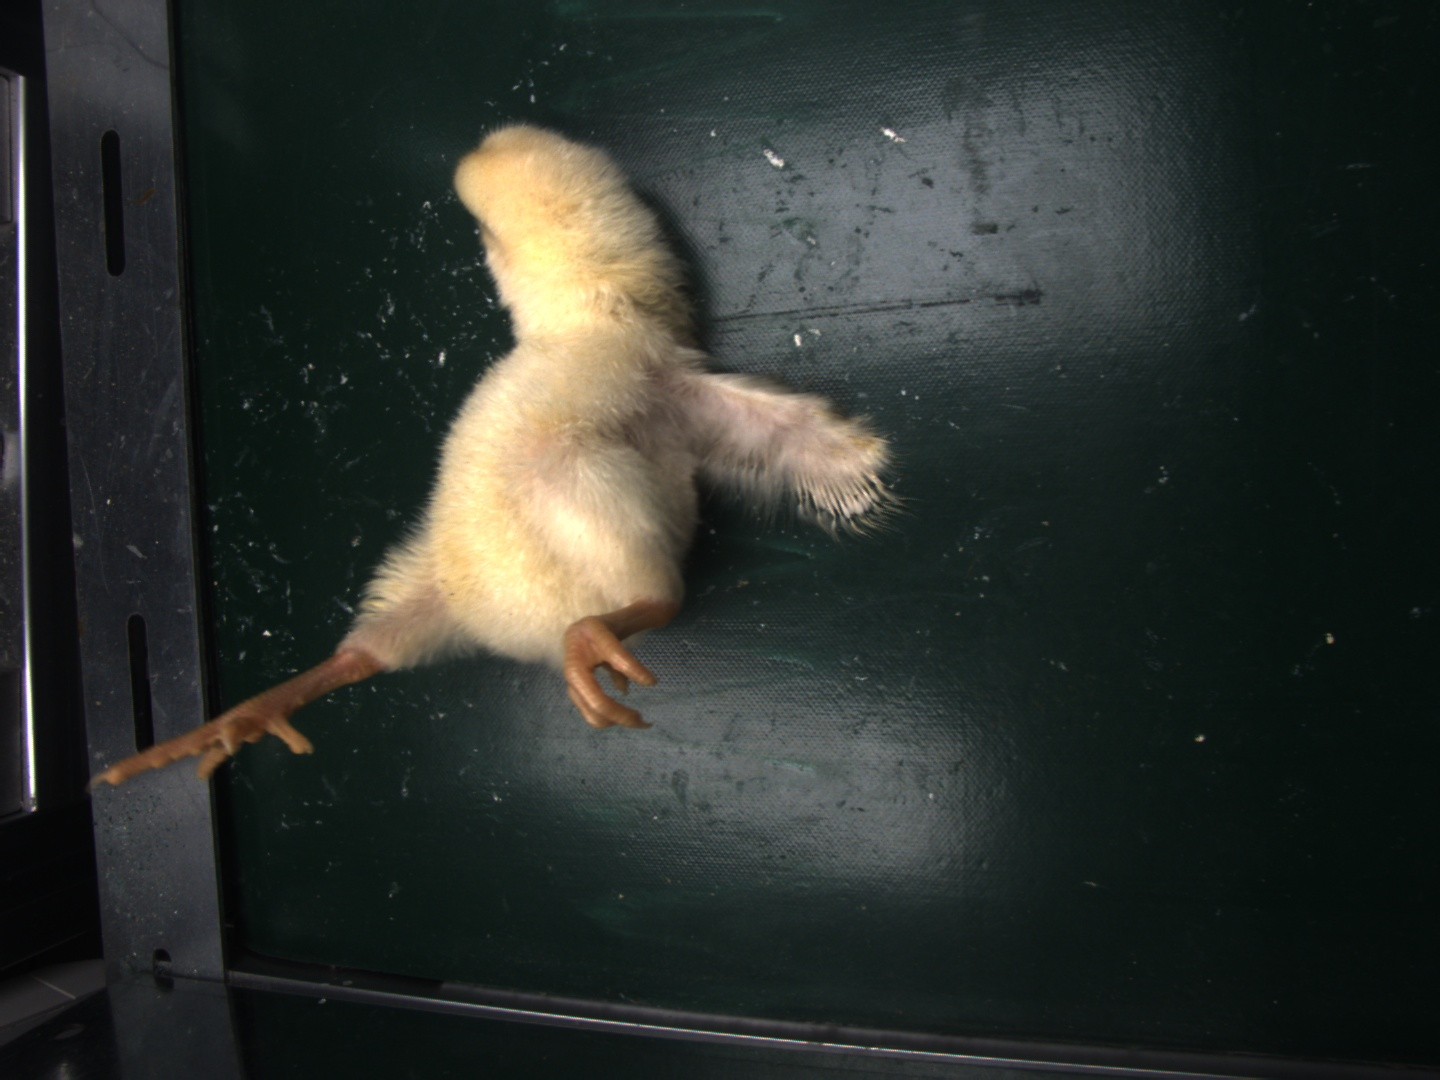male: (796, 465, 887, 522)
